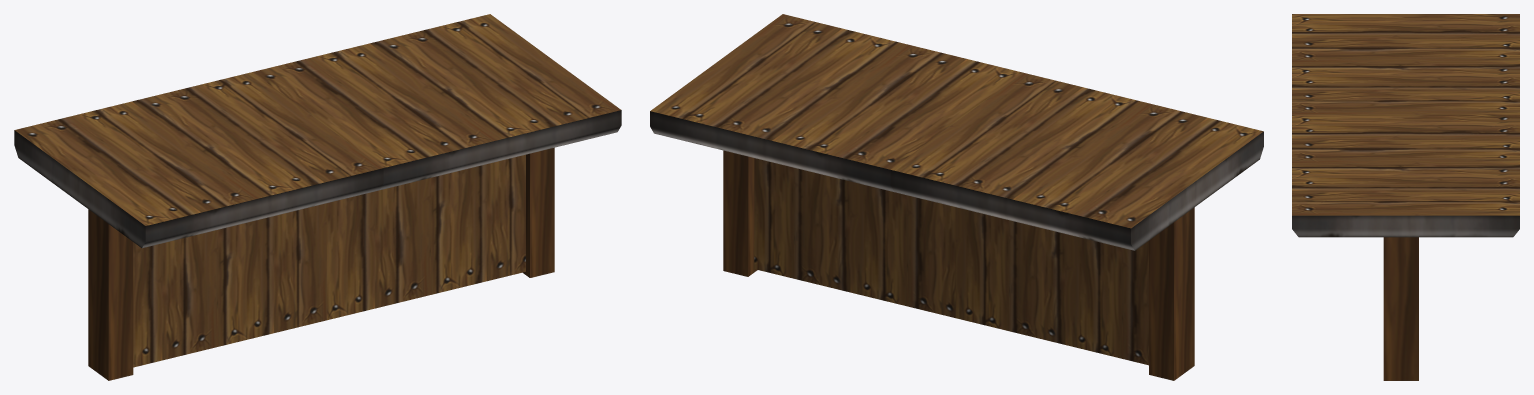
The model's file is Table02.fbx.
3 views of the same model, side by side, from view 1: azimuth 30°, elevation 25°; view 2: azimuth 150°, elevation 25°; view 3: azimuth 270°, elevation 25° (orthographic). The views are drawn at different scales.
Visible parts, largest first — view 1: Table02; view 2: Table02; view 3: Table02.
Part boxes in pixels (box(x1,y1,x2,y2)): Table02: box(14, 14, 621, 380); Table02: box(650, 14, 1263, 380); Table02: box(1292, 14, 1519, 380).
Size of the model in its own units: 5.72 by 2.27 by 2.73.
